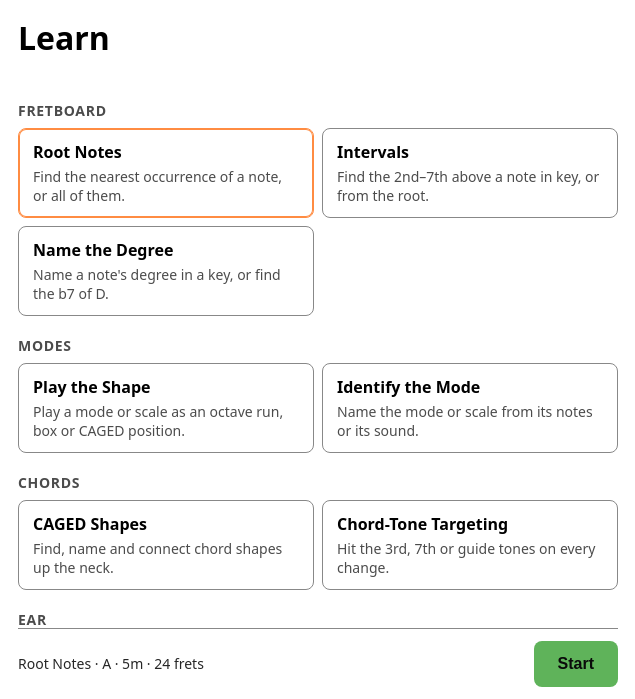
StartScreen — exercise selector › disables Start when the box span is cleared (prevents an infeasible config)
Click the button that starts with "Play the Shape".
click(166, 408)  # box [18,363,314,453]
(page scrolled)
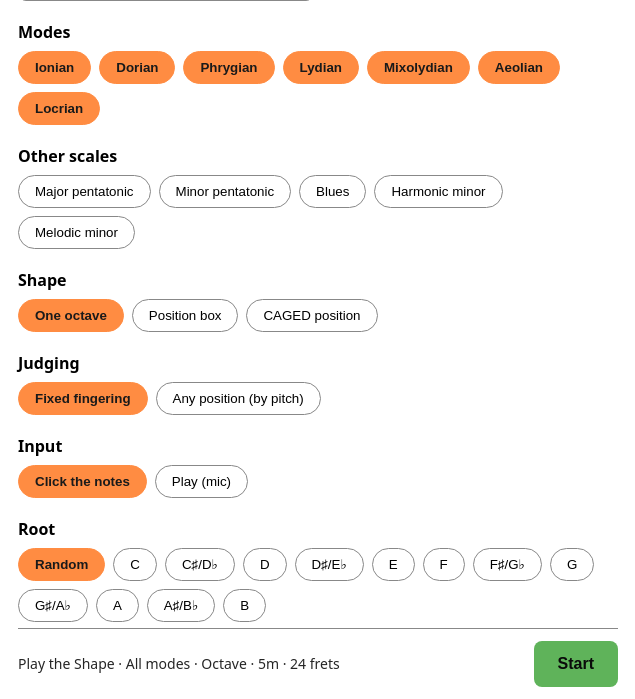
# Switch to the box shape, which reveals the span number input.
Click the button with class "chip" showing "Position box".
click(185, 315)  # box [132,299,238,332]
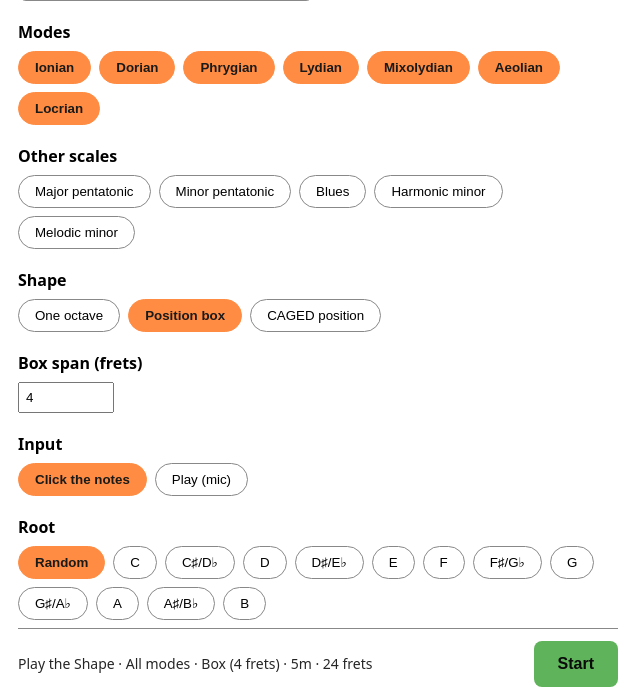
Check: the number field with id "span" is shown
Clear the number field with id "span" at (66, 397), box [18,382,114,413]
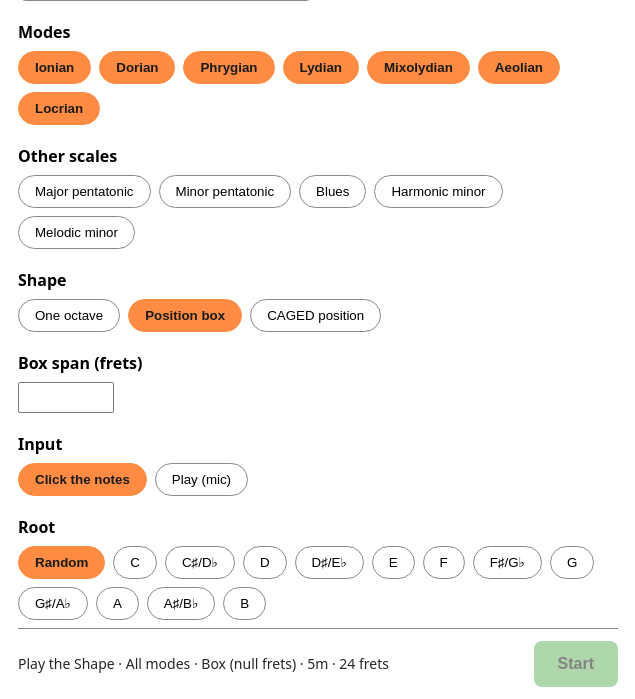
Check: the button with class "start-button" is disabled, box [534,641,618,687]
